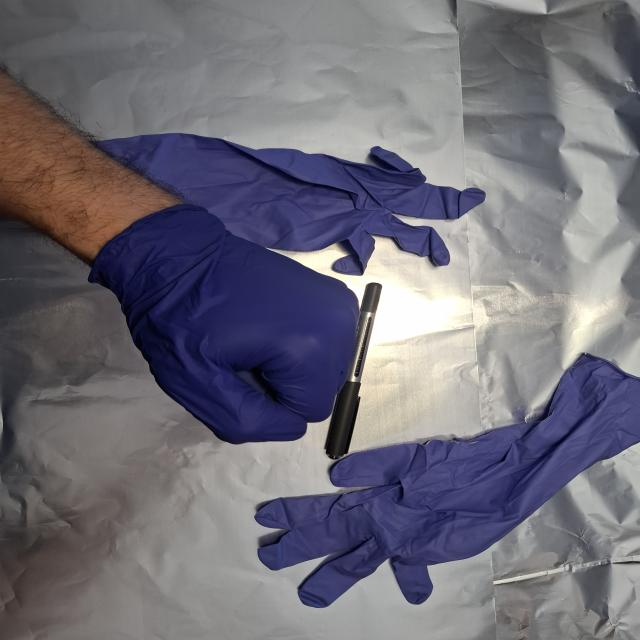glove_on: (104, 210, 365, 448)
